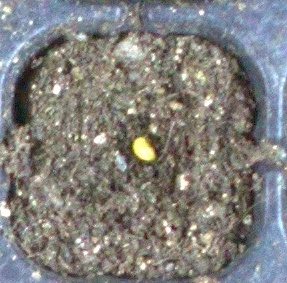chilli seed: (130, 136, 157, 161)
